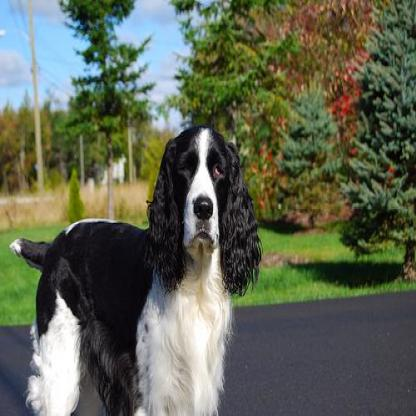English_springer: (8, 126, 264, 413)
